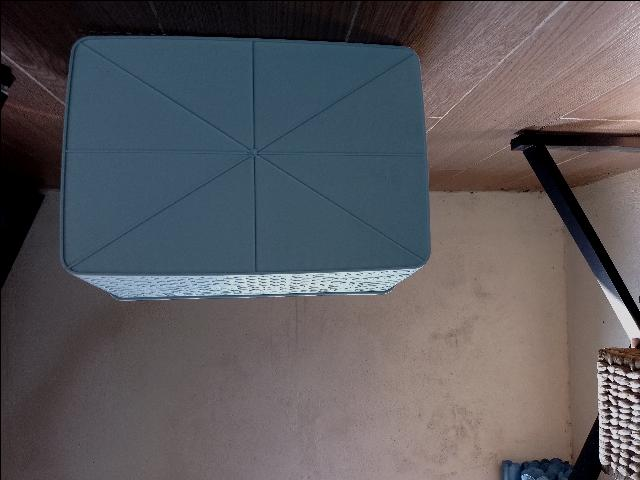cart: (57, 32, 429, 299)
